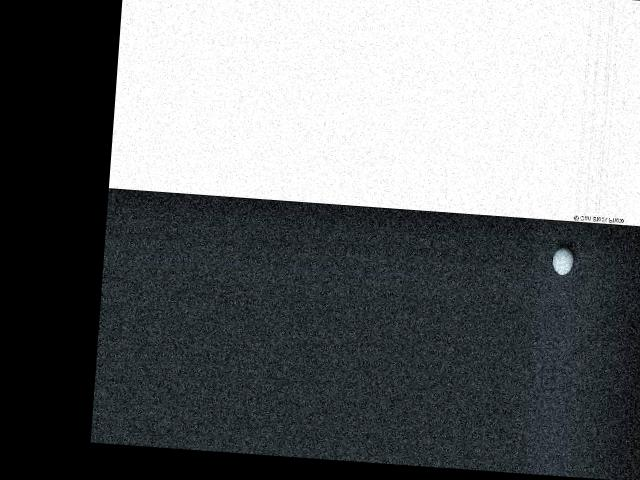egg: (551, 246, 574, 275)
